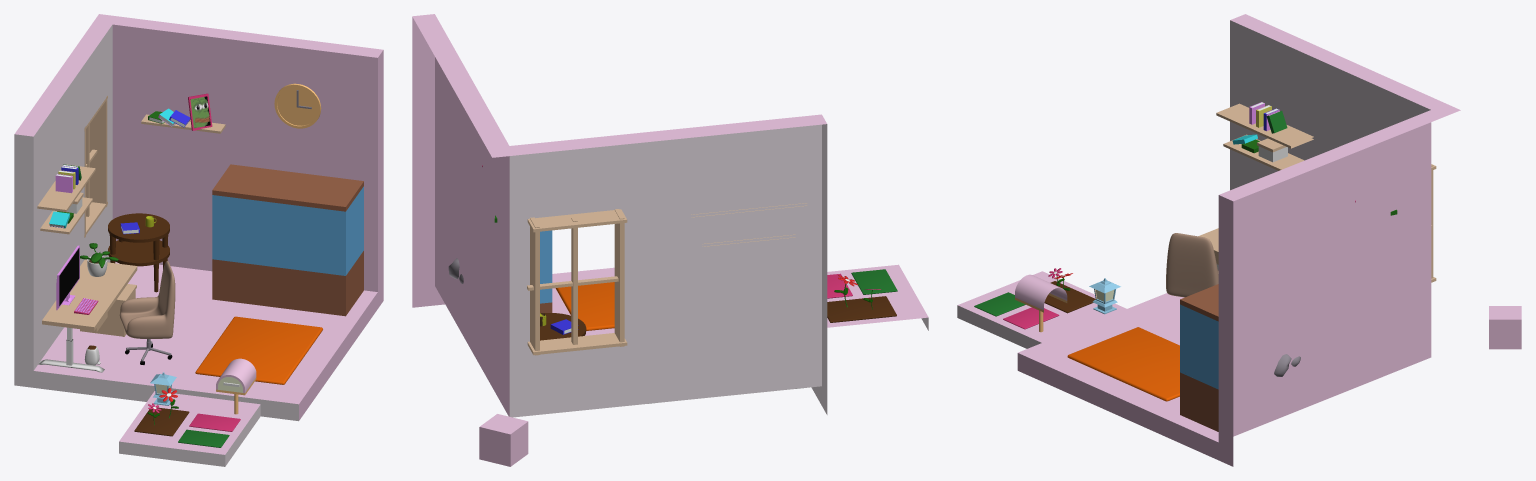
File: Room2.glb
The picture shows the model from 3 angles, left to right: view 1: azimuth 30°, elevation 25°; view 2: azimuth 150°, elevation 25°; view 3: azimuth 270°, elevation 25°; orthographic projection. The views are drawn at different scales.
Parts seen in each view (by area): view 1: Body, Aquarium, Desks, Floor items, Mini floor, Shelves, Chair, Clock, Mailbox, Table Stuff, Floor third, Computer (+3 smaller); view 2: Body, Mini floor, Cube, Floor items, Floor third, Aquarium, Floor second, Desks; view 3: Body, Aquarium, Floor items, Mini floor, Shelves, Chair, Cube, Mailbox, Floor third, lamp, Floor second, Floor first.
Boxes of the visible parts, x1=… form: Body: x1=14, y1=14, x2=383, y2=421; Aquarium: x1=212, y1=164, x2=363, y2=316; Desks: x1=38, y1=213, x2=169, y2=372; Floor items: x1=84, y1=316, x2=322, y2=384; Mini floor: x1=119, y1=391, x2=260, y2=466; Shelves: x1=37, y1=93, x2=225, y2=234; Chair: x1=119, y1=261, x2=175, y2=338; Clock: x1=274, y1=83, x2=321, y2=128; Mailbox: x1=216, y1=358, x2=256, y2=414; Table Stuff: x1=74, y1=216, x2=156, y2=314; Floor third: x1=134, y1=407, x2=189, y2=436; Computer: x1=56, y1=245, x2=79, y2=310; Body: x1=412, y1=14, x2=827, y2=417; Mini floor: x1=827, y1=264, x2=928, y2=330; Cube: x1=479, y1=414, x2=528, y2=466; Floor items: x1=555, y1=282, x2=614, y2=330; Floor third: x1=827, y1=296, x2=896, y2=322; Aquarium: x1=448, y1=230, x2=552, y2=313; Floor second: x1=851, y1=269, x2=897, y2=294; Desks: x1=540, y1=313, x2=804, y2=403; Body: x1=1017, y1=14, x2=1460, y2=466; Aquarium: x1=1180, y1=284, x2=1300, y2=431; Floor items: x1=1067, y1=327, x2=1179, y2=401; Mini floor: x1=957, y1=271, x2=1126, y2=348; Shelves: x1=1216, y1=102, x2=1397, y2=215; Chair: x1=1166, y1=233, x2=1218, y2=297; Cube: x1=1489, y1=306, x2=1521, y2=349; Mailbox: x1=1015, y1=274, x2=1067, y2=332; Floor third: x1=1044, y1=281, x2=1095, y2=313; lamp: x1=1089, y1=278, x2=1120, y2=314; Floor second: x1=974, y1=292, x2=1025, y2=316; Floor first: x1=1003, y1=307, x2=1059, y2=329.
Bounding box in the file's own units: 27.14 × 17.93 × 34.52.
31 materials, 1 textured.
